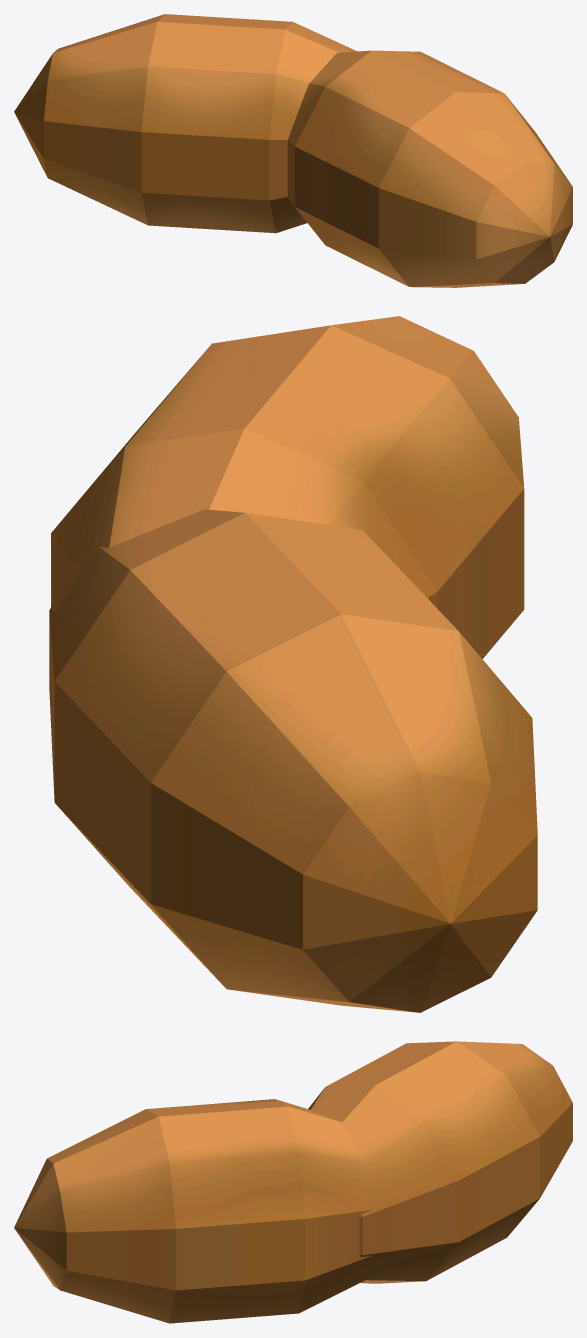
Rendered from Nut.glb.
The picture shows the model from 3 angles, top to bottom: view 1: azimuth 30°, elevation 25°; view 2: azimuth 150°, elevation 25°; view 3: azimuth 270°, elevation 25°; orthographic projection. The views are drawn at different scales.
Visible parts, largest first — view 1: Nut; view 2: Nut; view 3: Nut.
Part boxes in pixels (bbox=[...]): Nut: bbox=[14, 14, 572, 287]; Nut: bbox=[49, 316, 537, 1012]; Nut: bbox=[14, 1041, 572, 1323].
Bounding box in the file's own units: 13.1 × 7.08 × 18.06.
1 material, 1 textured.
